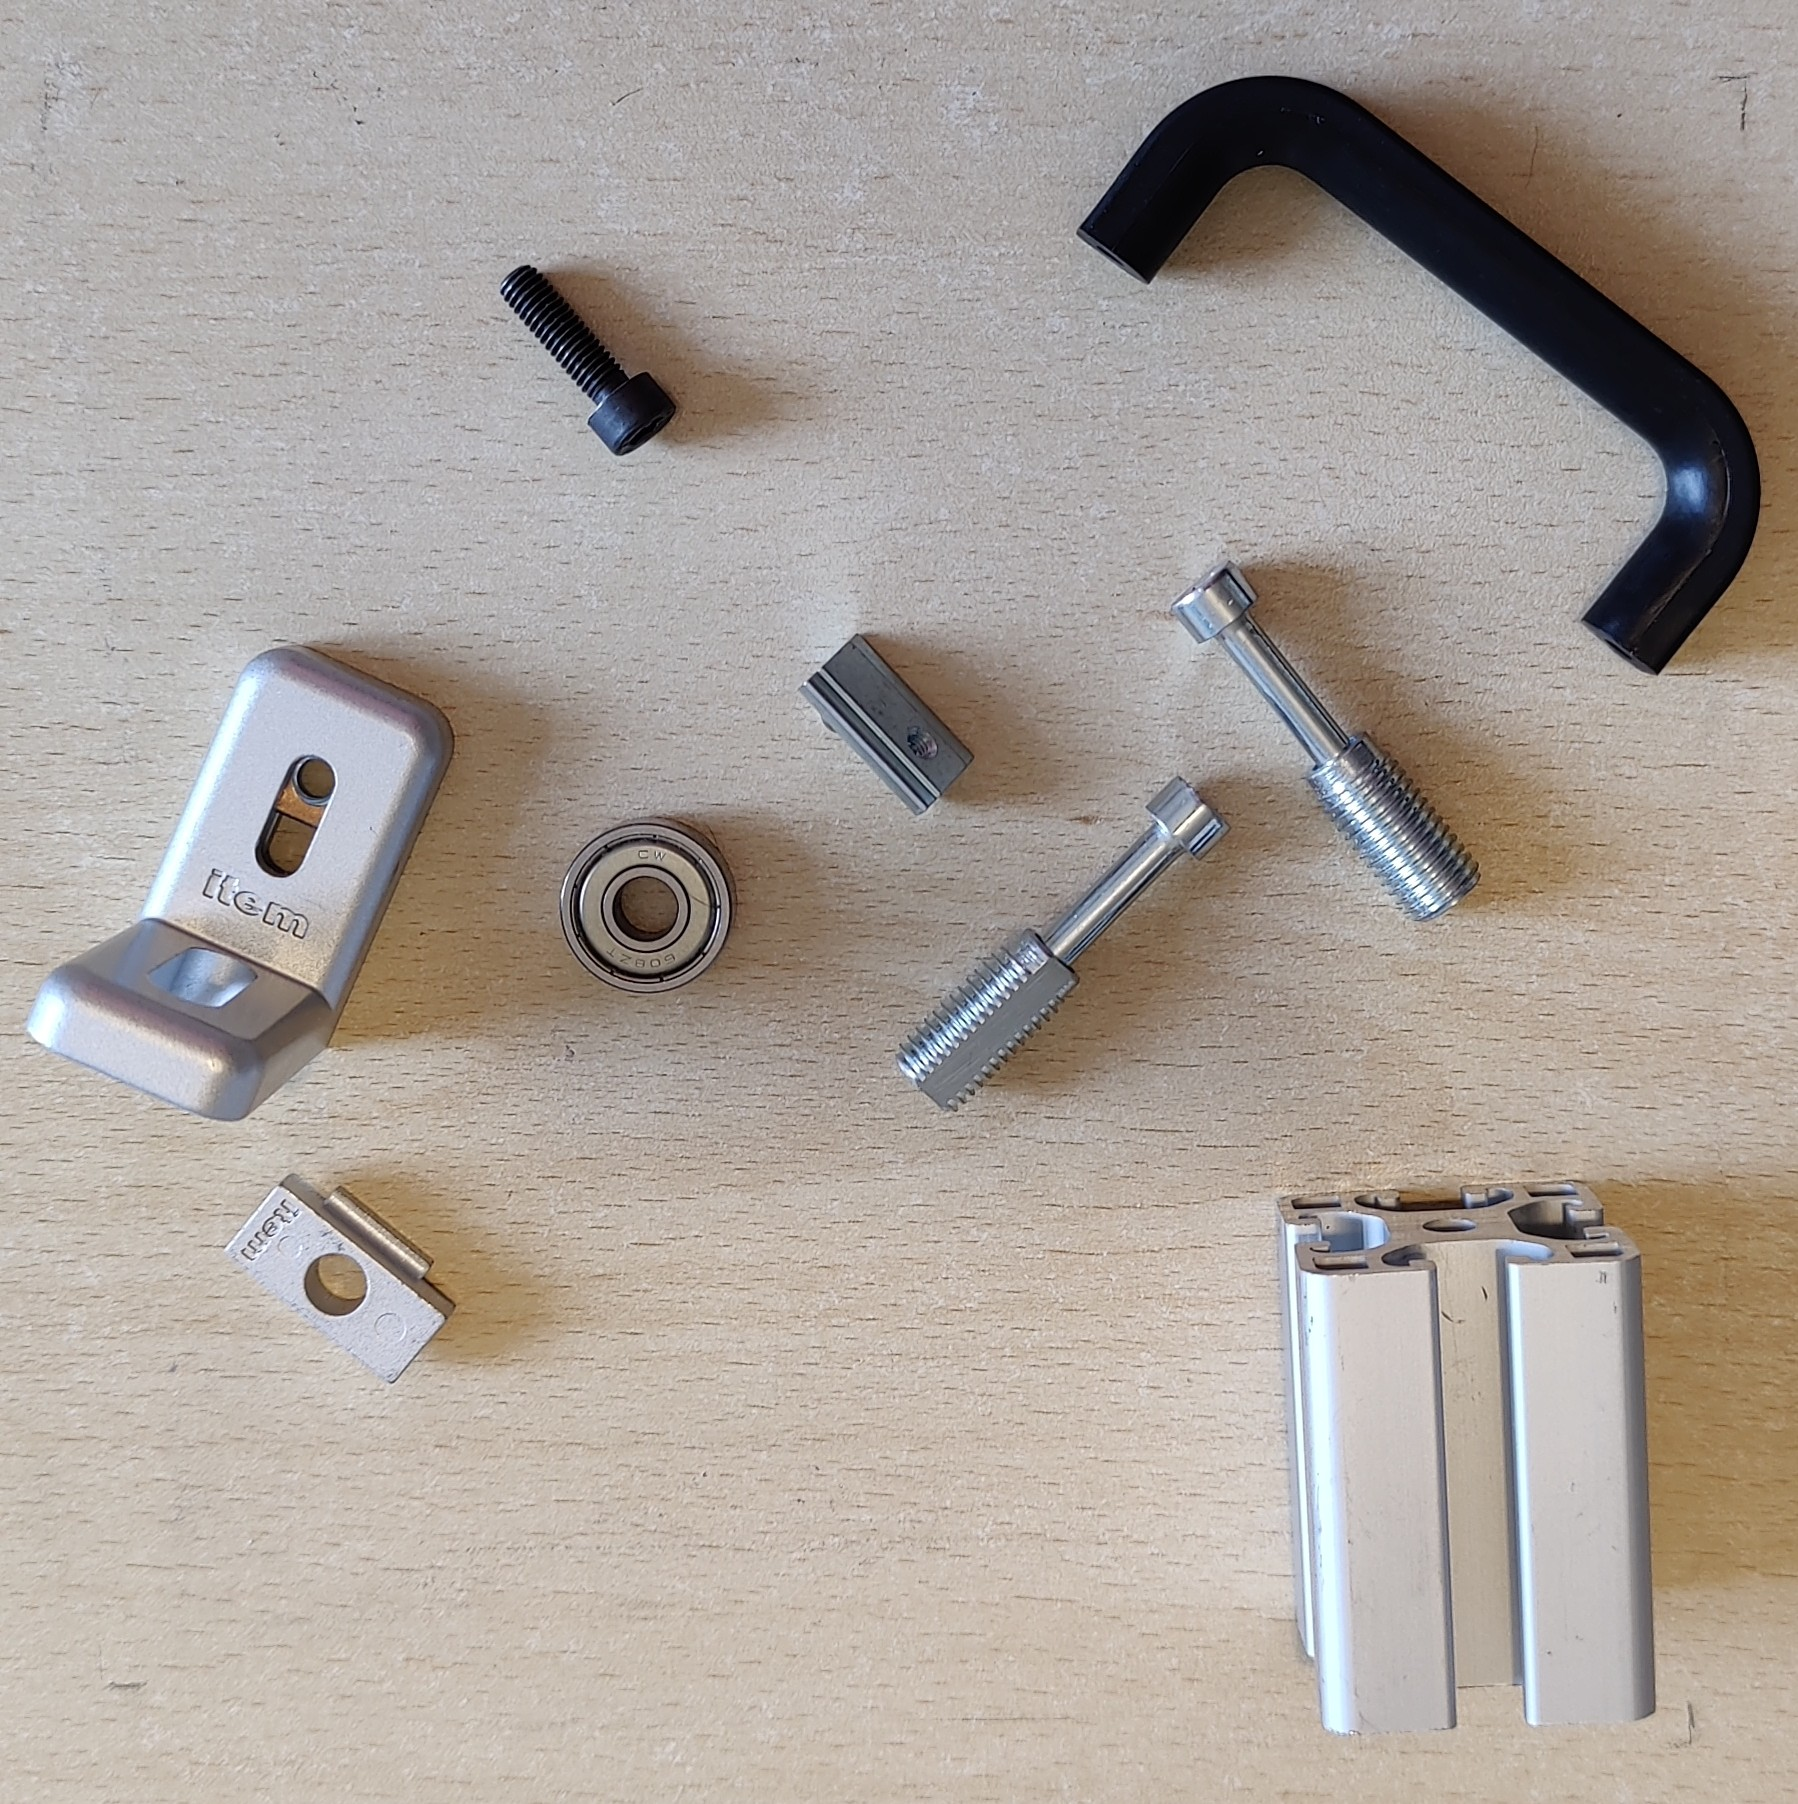Aluminium Extension: (1274, 1179, 1658, 1737)
Ball Bearing: (555, 815, 739, 996)
Multiwinkel: (21, 642, 454, 1123)
Pull Handle: (1072, 72, 1765, 678)
Shoulder Socket Head Cap Screw: (891, 774, 1228, 1118), (1171, 560, 1485, 927)
Socket Head Cap Screw: (496, 263, 678, 459)
T Nut Square: (221, 1170, 456, 1388)
T Spring Nut: (795, 629, 976, 818)
